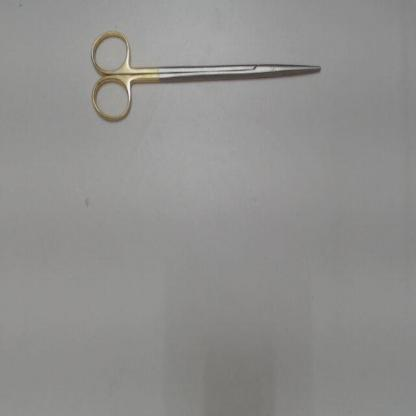7 Metzenbaum Scissors: (85, 25, 323, 132)
